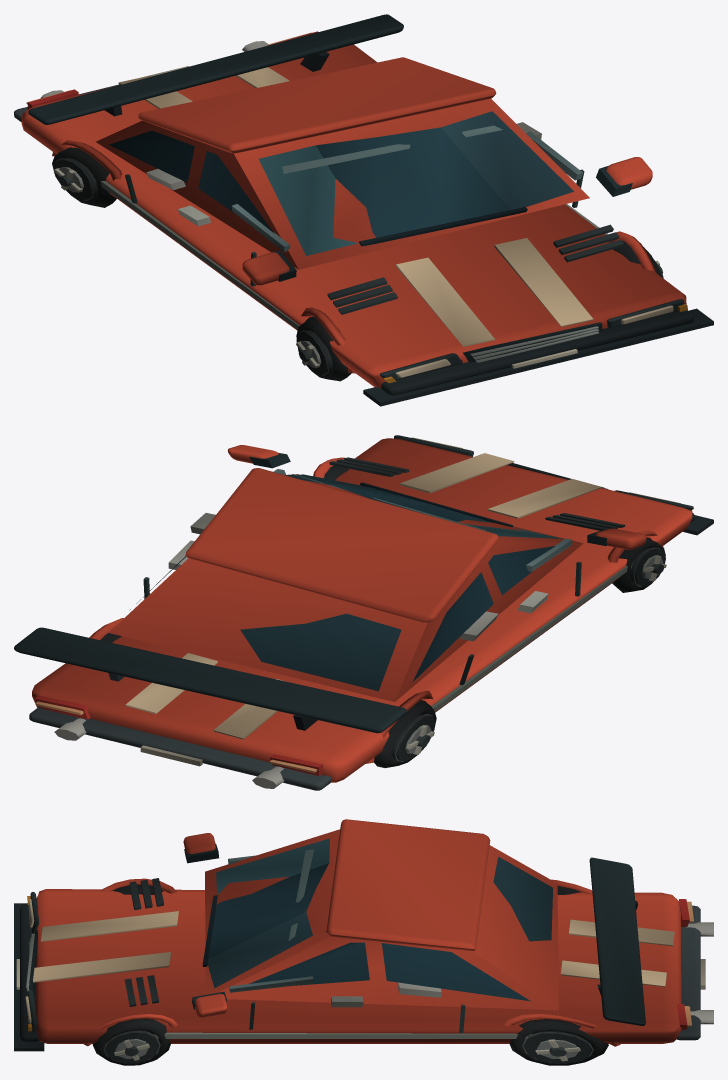
Rendered from sport.glb.
3 views of the same model, one above another, from view 1: azimuth 30°, elevation 25°; view 2: azimuth 150°, elevation 25°; view 3: azimuth 270°, elevation 25° (orthographic). The views are drawn at different scales.
Parts seen in each view (by area): view 1: sport_body; view 2: sport_body; view 3: sport_body.
Part boxes in pixels (<box>): sport_body: <box>14,14,713,406</box>; sport_body: <box>14,435,713,790</box>; sport_body: <box>14,819,713,1065</box>.
Bounding box in the file's own units: 2.36 × 0.7598 × 3.95.
